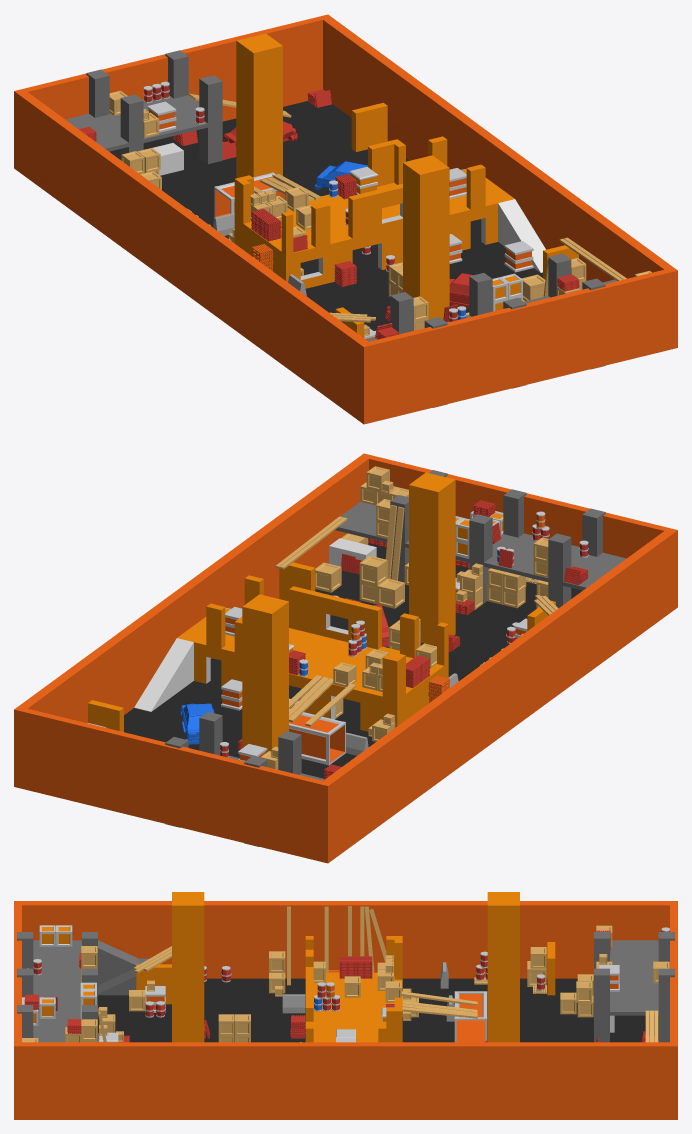
The model's file is map1.fbx.
3 views of the same model, one above another, from view 1: azimuth 30°, elevation 25°; view 2: azimuth 150°, elevation 25°; view 3: azimuth 270°, elevation 25° (orthographic). The views are drawn at different scales.
Visible parts, largest first — view 1: room -convcol; view 2: room -convcol; view 3: room -convcol.
Part boxes in pixels (left/top/right/bottom): room -convcol: left=14, top=14, right=677, bottom=424; room -convcol: left=14, top=453, right=677, bottom=863; room -convcol: left=14, top=892, right=677, bottom=1119.
Bounding box in the file's own units: 850 × 405 × 1640.
